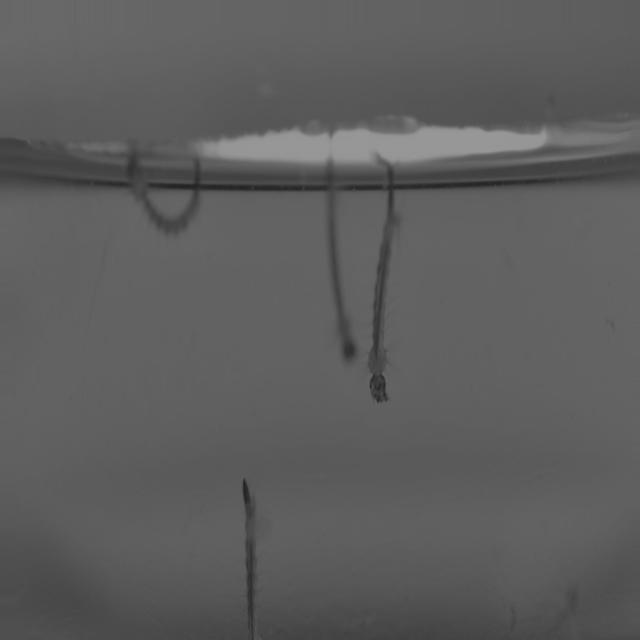larvas: (369, 174, 398, 402), (128, 154, 203, 232), (328, 155, 355, 363), (242, 478, 260, 640)
